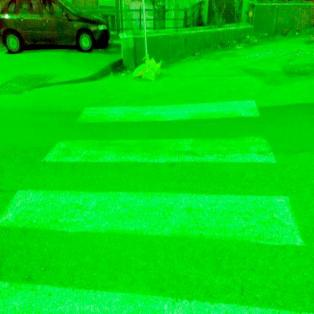Paso de Cebra: (36, 96, 284, 174)
